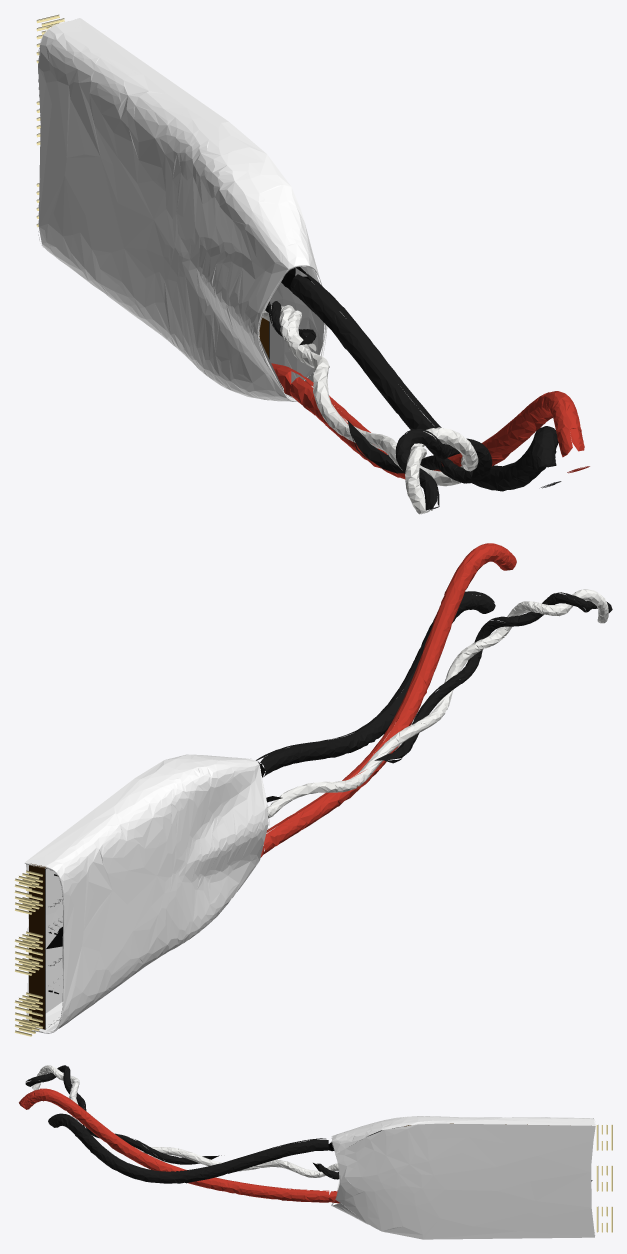
File: esc30.glb
The picture shows the model from 3 angles, top to bottom: view 1: azimuth 30°, elevation 25°; view 2: azimuth 150°, elevation 25°; view 3: azimuth 270°, elevation 25°; orthographic projection. The views are drawn at different scales.
Parts seen in each view (by area): view 1: esc30__m9, esc30__m11, esc30__m8, esc30__m10; view 2: esc30__m9, esc30__m11, esc30__m8, esc30__m10, esc30__m0, esc30__m7; view 3: esc30__m9, esc30__m11, esc30__m8, esc30__m10, esc30__m0.
Boxes of the visible parts, box(x1,y1,x2,y2) form: esc30__m9: box(38, 18, 327, 401); esc30__m11: box(265, 273, 561, 510); esc30__m8: box(271, 363, 589, 479); esc30__m10: box(262, 305, 478, 514); esc30__m9: box(24, 754, 269, 1033); esc30__m11: box(256, 591, 612, 802); esc30__m8: box(260, 543, 516, 857); esc30__m10: box(267, 589, 608, 818); esc30__m0: box(14, 870, 42, 1036); esc30__m7: box(29, 863, 45, 1029); esc30__m9: box(331, 1116, 595, 1239); esc30__m11: box(25, 1065, 339, 1183); esc30__m8: box(19, 1088, 339, 1203); esc30__m10: box(32, 1065, 338, 1177); esc30__m0: box(596, 1125, 612, 1232).
Size of the model in its own units: 0.0163 by 0.018 by 0.0729.
